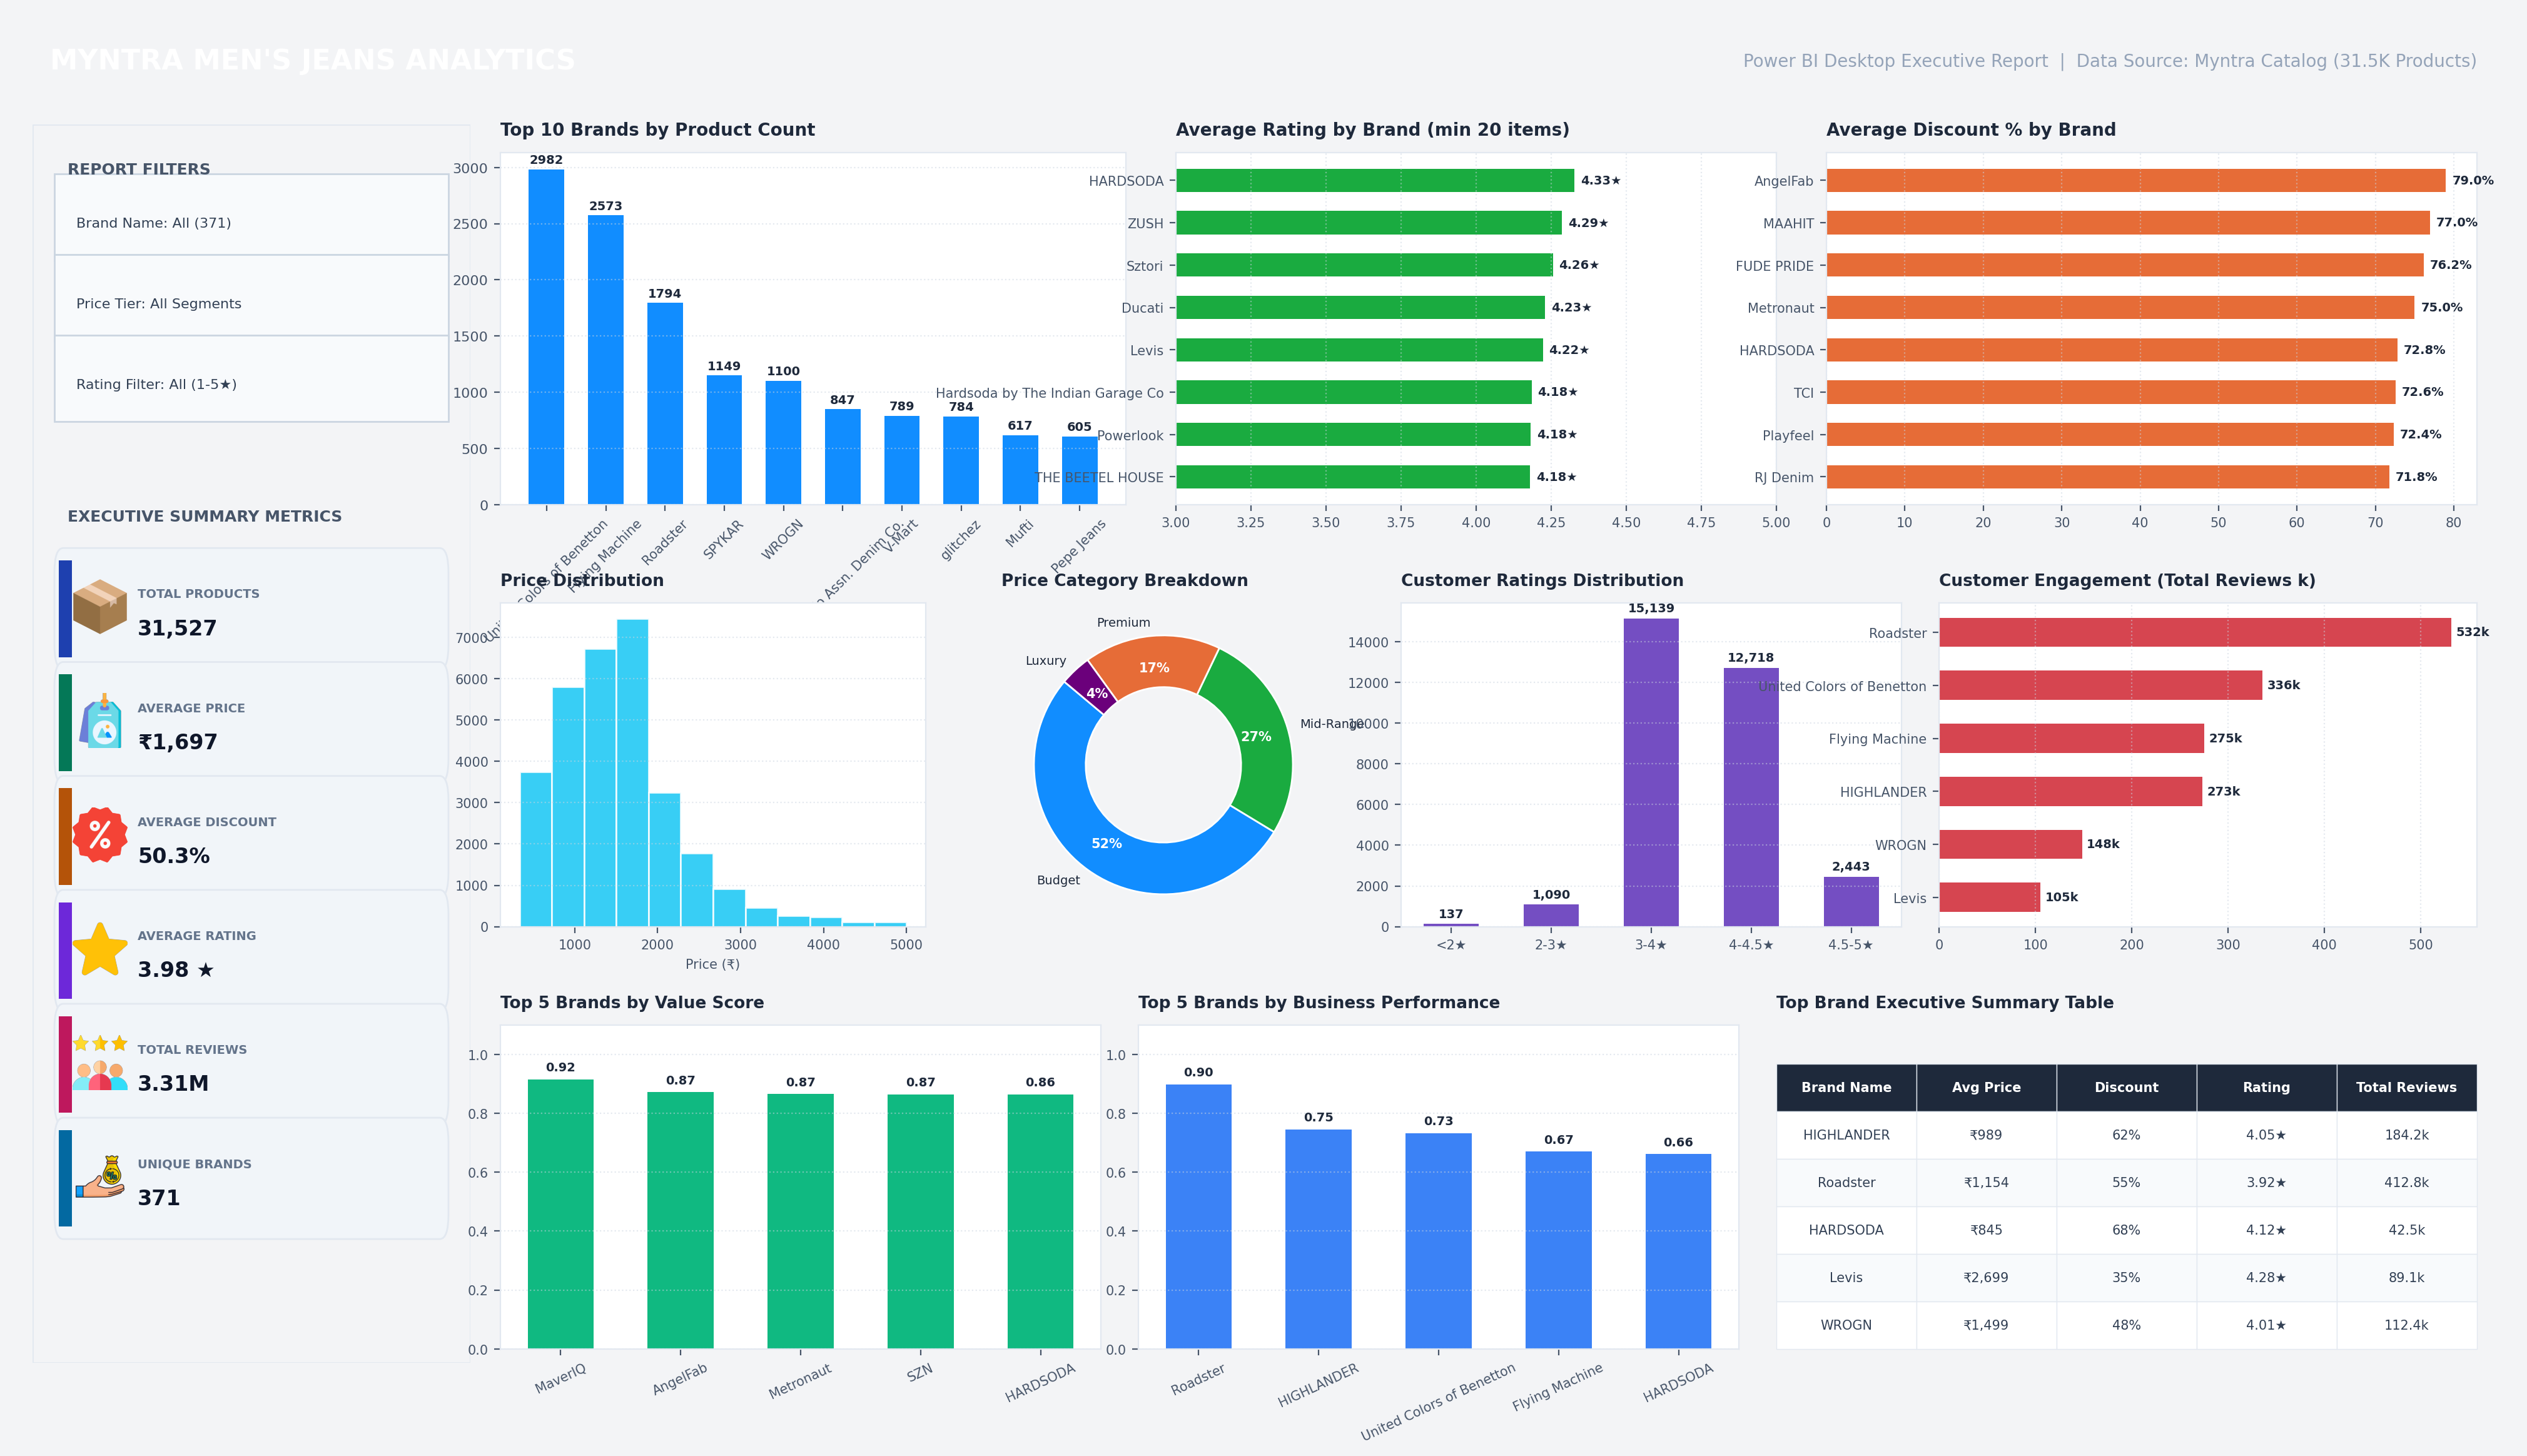

Layout of this report page (visuals, bound fields, positions):
{"tool":"powerbi","page":{"name":"Page 1","canvas":[3900,2020],"ordinal":0},"visuals":[{"type":"textbox","title":"MYNTRA MEN''S JEANS ANALYTICS","box":[10,0,3990,150],"z":0},{"type":"shape","box":[0,0,434,2480],"z":1000},{"type":"image","box":[10,0,250,120],"z":2000},{"type":"slicer","title":"Brand Name","fields":{"Values":["myntra_cleaned.brand_name"]},"box":[16,194,356,104],"z":3000},{"type":"slicer","fields":{"Values":["myntra_cleaned.Price Segment"]},"box":[16,362,358,118],"z":4000},{"type":"slicer","fields":{"Values":["myntra_cleaned.Rating Category"]},"box":[16,552,354,132],"z":5000},{"type":"shape","box":[15,755,390,1110],"z":6000},{"type":"image","box":[34,1518,106,96],"z":12000},{"type":"image","box":[28,1354,82,98],"z":13000},{"type":"image","box":[30,1668,94,88],"z":14000},{"type":"image","box":[28,1152,84,126],"z":15000},{"type":"image","box":[40,832,76,78],"z":16000},{"type":"image","box":[0,992,130,90],"z":17000},{"type":"cardVisual","fields":{"Data":["myntra_cleaned.Total Products"]},"box":[146,814,210,116],"z":18000},{"type":"cardVisual","fields":{"Data":["myntra_cleaned.Total Brands"]},"box":[140,974,238,126],"z":19000},{"type":"cardVisual","fields":{"Data":["myntra_cleaned.Average Price"]},"box":[128,1152,246.7,125],"z":20000},{"type":"cardVisual","fields":{"Data":["myntra_cleaned.Average Rating"]},"box":[136,1332,234,142],"z":21000},{"type":"cardVisual","fields":{"Data":["myntra_cleaned.Average Discount"]},"box":[156,1498,218,116],"z":22000},{"type":"cardVisual","fields":{"Data":["myntra_cleaned.Total Customer Ratings"]},"box":[138,1640,242,146],"z":23000},{"type":"clusteredColumnChart","title":"Top 10 Brands by Product Count","fields":{"Category":["myntra_cleaned.brand_name"],"Y":["CountNonNull(myntra_cleaned.brand_name)"]},"box":[465,190,1105,625],"z":24000},{"type":"clusteredBarChart","title":"Average Rating by Brand","fields":{"Category":["myntra_cleaned.brand_name"],"Y":["myntra_cleaned.Average Rating (Min 100 Products)"]},"box":[1592.5,190,887.5,625],"z":25000},{"type":"clusteredBarChart","title":"Average Discount % by Brand","fields":{"Category":["myntra_cleaned.brand_name"],"Y":["myntra_cleaned.Average Discount (Min 100 Products)"]},"box":[2505,195,1362.5,620],"z":26000},{"type":"clusteredColumnChart","title":"Price Distribution","fields":{"Category":["myntra_cleaned.Price Range"],"Y":["CountNonNull(myntra_cleaned.Price Range)"]},"box":[465,850.4,640,465],"z":27000},{"type":"donutChart","title":"Products Across Price Categories","fields":{"Category":["myntra_cleaned.Price Segment"],"Y":["CountNonNull(myntra_cleaned.Price Segment)"]},"box":[1122.5,850,682.5,465],"z":28000},{"type":"clusteredColumnChart","title":"Customer Ratings Distribution","fields":{"Category":["myntra_cleaned.Rating Category"],"Y":["CountNonNull(myntra_cleaned.Rating Category)"]},"box":[1825,850,970,465],"z":29000},{"type":"clusteredBarChart","title":"Customer Engagement by Brand (Number of Ratings)","fields":{"Category":["myntra_cleaned.brand_name"],"Y":["myntra_cleaned.Customer Engagement"]},"box":[2815,850,1052.5,460],"z":30000},{"type":"clusteredColumnChart","title":"Top 5 Brands by Value Score","fields":{"Category":["myntra_cleaned.brand_name"],"Y":["myntra_cleaned.Value Score"]},"box":[466,1354,1050,475],"z":31000},{"type":"clusteredColumnChart","title":"Top 5 Brands by Business Performance Score","fields":{"Category":["myntra_cleaned.brand_name"],"Y":["myntra_cleaned.Business Performance Score"]},"box":[1548,1354,1080,475],"z":32000},{"type":"tableEx","title":"Top Brand Summary","fields":{"Values":["myntra_cleaned.brand_name","myntra_cleaned.Product Count","myntra_cleaned.Average Price","myntra_cleaned.Average Rating","myntra_cleaned.Average Discount","myntra_cleaned.Customer Engagement","myntra_cleaned.Business Performance Score"]},"box":[2652,1354,1215,475],"z":33000},{"type":"shape","box":[0,1880,4000,115],"z":34000},{"type":"textbox","box":[355,1910,3040,165],"z":35000}]}

Visuals, with their boxes on the page's 3900x2020 design canvas (x1, y1, x2, y2). These are canvas units, not pixel positions in the 2527x1456 screenshot, which may show the page scaled, cropped or inside an application window:
"MYNTRA MEN''S JEANS ANALYTICS" textbox: BBox(10, 0, 4000, 150)
shape: BBox(0, 0, 434, 2480)
image: BBox(10, 0, 260, 120)
"Brand Name" slicer: BBox(16, 194, 372, 298)
slicer - myntra_cleaned.Price Segment: BBox(16, 362, 374, 480)
slicer - myntra_cleaned.Rating Category: BBox(16, 552, 370, 684)
shape: BBox(15, 755, 405, 1865)
image: BBox(34, 1518, 140, 1614)
image: BBox(28, 1354, 110, 1452)
image: BBox(30, 1668, 124, 1756)
image: BBox(28, 1152, 112, 1278)
image: BBox(40, 832, 116, 910)
image: BBox(0, 992, 130, 1082)
cardVisual - myntra_cleaned.Total Products: BBox(146, 814, 356, 930)
cardVisual - myntra_cleaned.Total Brands: BBox(140, 974, 378, 1100)
cardVisual - myntra_cleaned.Average Price: BBox(128, 1152, 375, 1277)
cardVisual - myntra_cleaned.Average Rating: BBox(136, 1332, 370, 1474)
cardVisual - myntra_cleaned.Average Discount: BBox(156, 1498, 374, 1614)
cardVisual - myntra_cleaned.Total Customer Ratings: BBox(138, 1640, 380, 1786)
"Top 10 Brands by Product Count" clusteredColumnChart: BBox(465, 190, 1570, 815)
"Average Rating by Brand" clusteredBarChart: BBox(1592, 190, 2480, 815)
"Average Discount % by Brand" clusteredBarChart: BBox(2505, 195, 3868, 815)
"Price Distribution" clusteredColumnChart: BBox(465, 850, 1105, 1315)
"Products Across Price Categories" donutChart: BBox(1122, 850, 1805, 1315)
"Customer Ratings Distribution" clusteredColumnChart: BBox(1825, 850, 2795, 1315)
"Customer Engagement by Brand (Number of Ratings)" clusteredBarChart: BBox(2815, 850, 3868, 1310)
"Top 5 Brands by Value Score" clusteredColumnChart: BBox(466, 1354, 1516, 1829)
"Top 5 Brands by Business Performance Score" clusteredColumnChart: BBox(1548, 1354, 2628, 1829)
"Top Brand Summary" tableEx: BBox(2652, 1354, 3867, 1829)
shape: BBox(0, 1880, 4000, 1995)
textbox: BBox(355, 1910, 3395, 2075)
